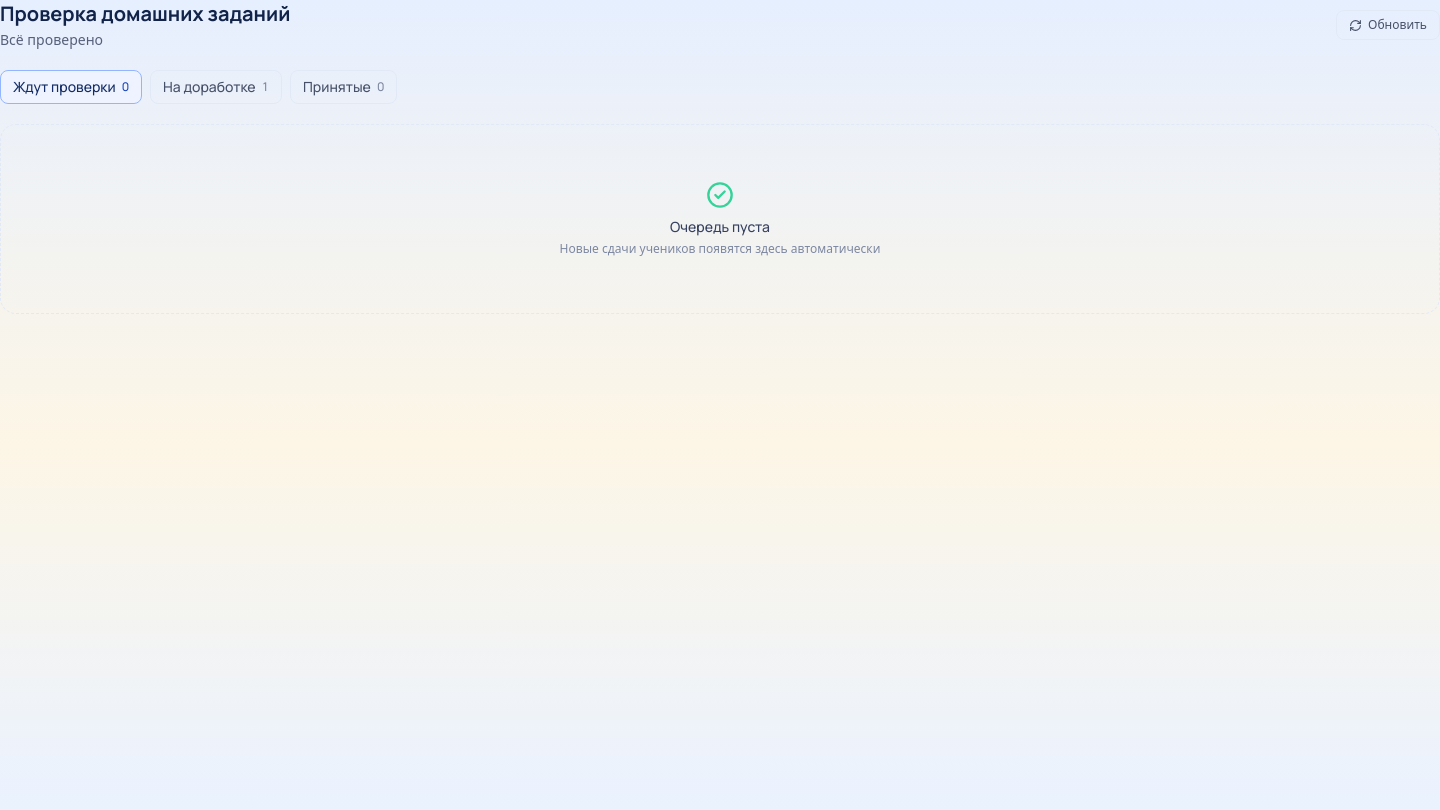
Scenario: HomeworkReviewQueuePage — принять работу с доработки › работа с доработки открывается из очереди и несёт блок вердикта
Click the tab with test id "queue-tab-returned_for_revision" at (216, 87), box left=150, top=70, right=282, bottom=104
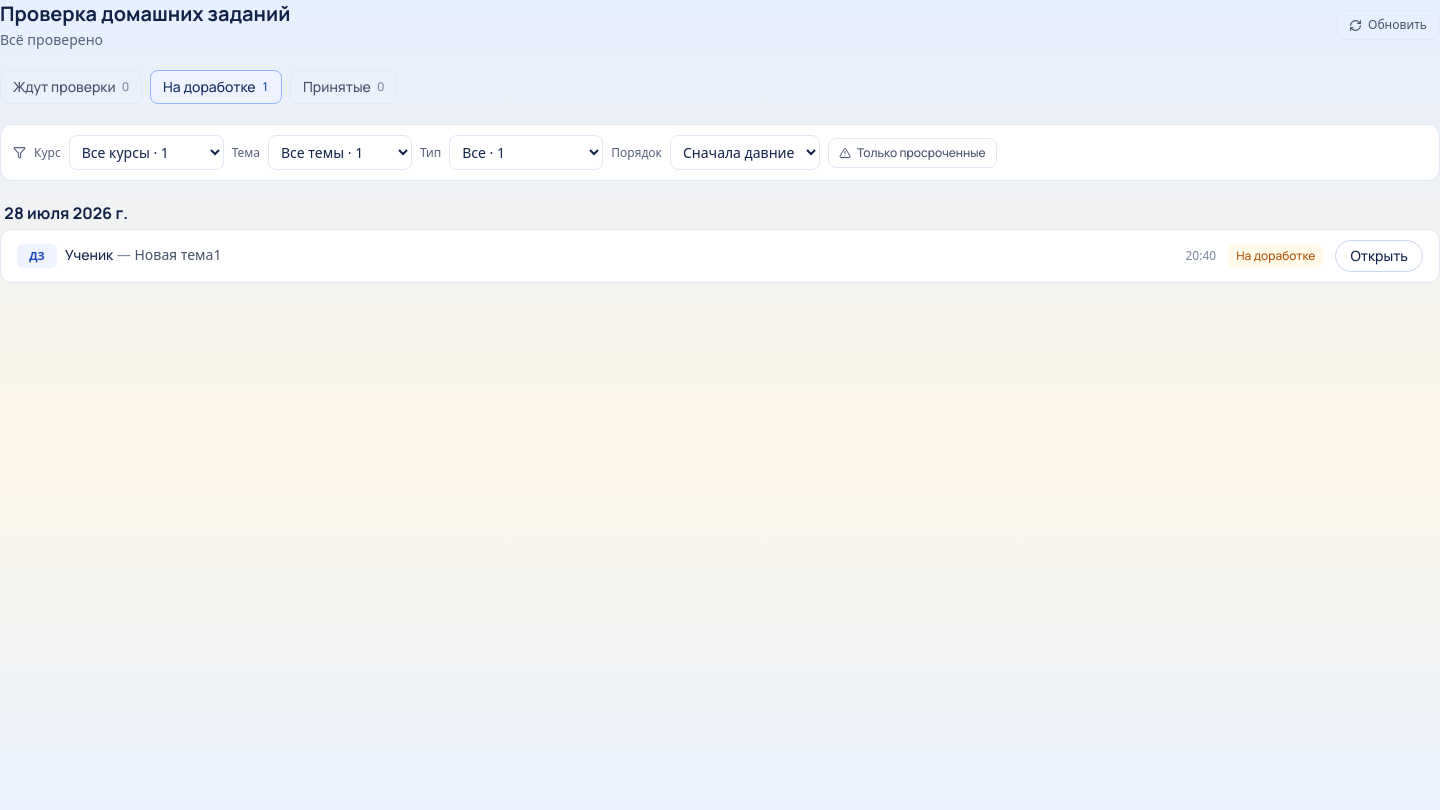
Click the button "Открыть" at (1379, 256), box left=1335, top=240, right=1423, bottom=272
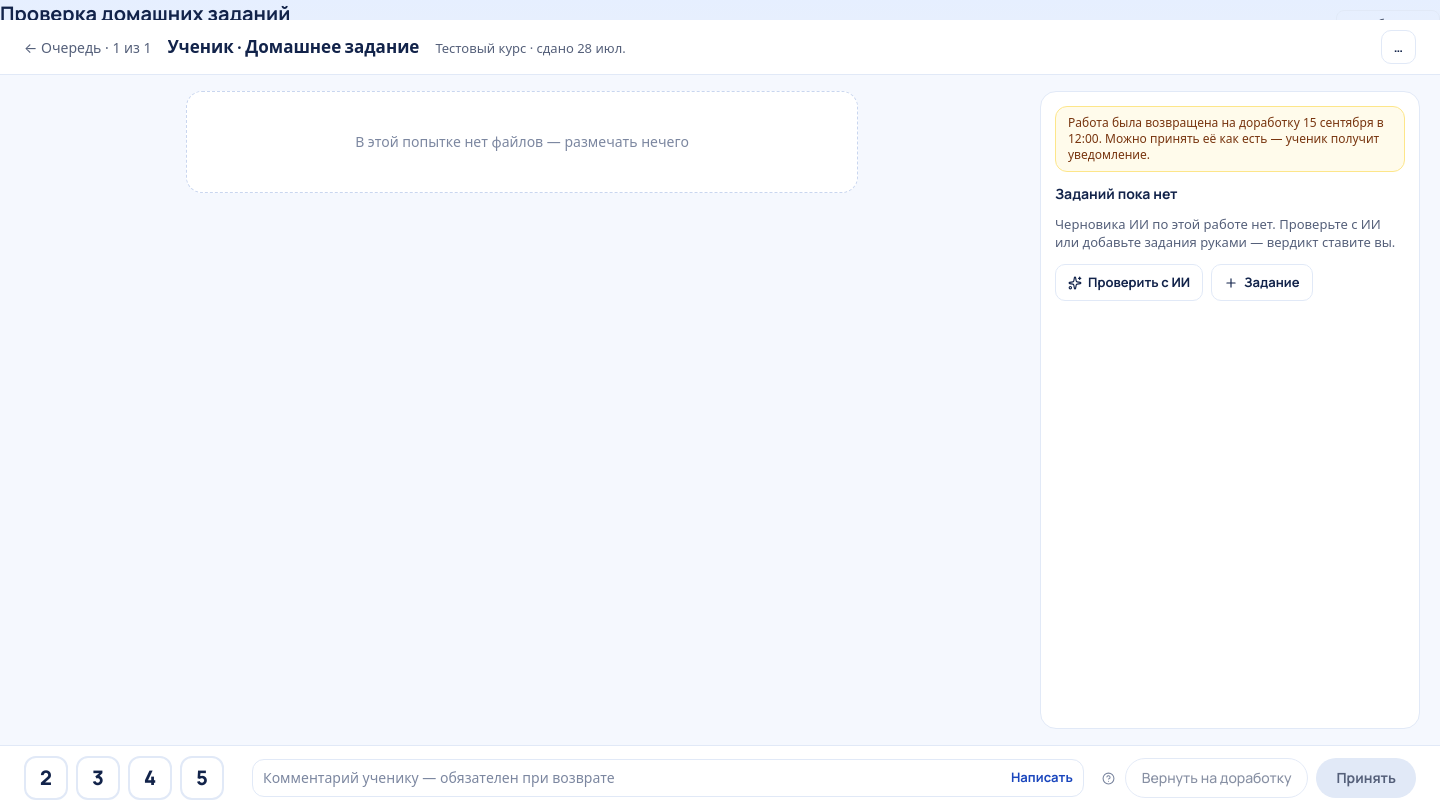
Click the button with test id "review-comment-edit" at (1042, 778), box left=1011, top=768, right=1073, bottom=788
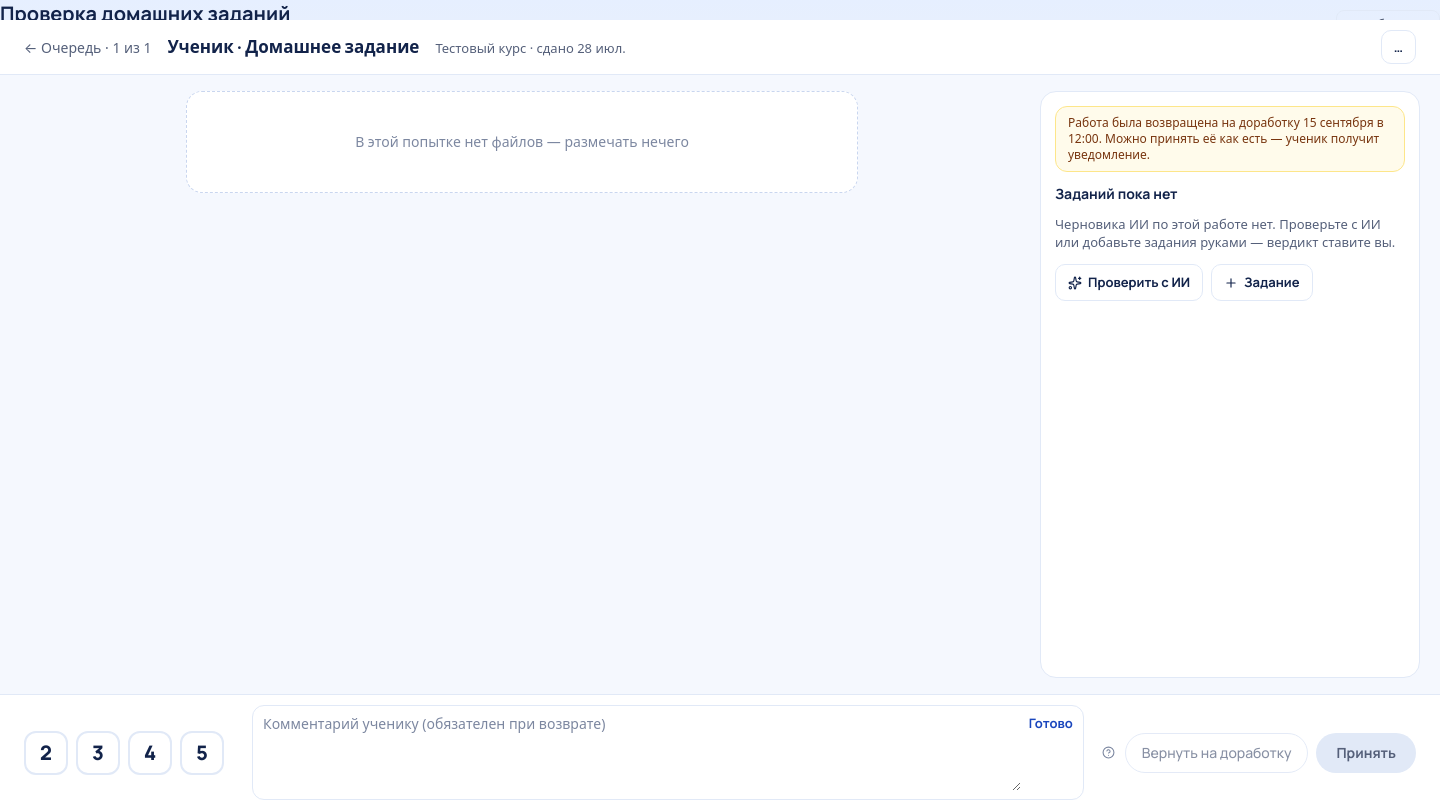
Expected: the button with test id "review-accept-button" is disabled, left=1316, top=732, right=1416, bottom=772
Expected: the text box with test id "review-comment-input" is enabled, left=263, top=714, right=1021, bottom=791
Click the button with test id "review-grade-5" at (202, 752), box left=180, top=730, right=224, bottom=774
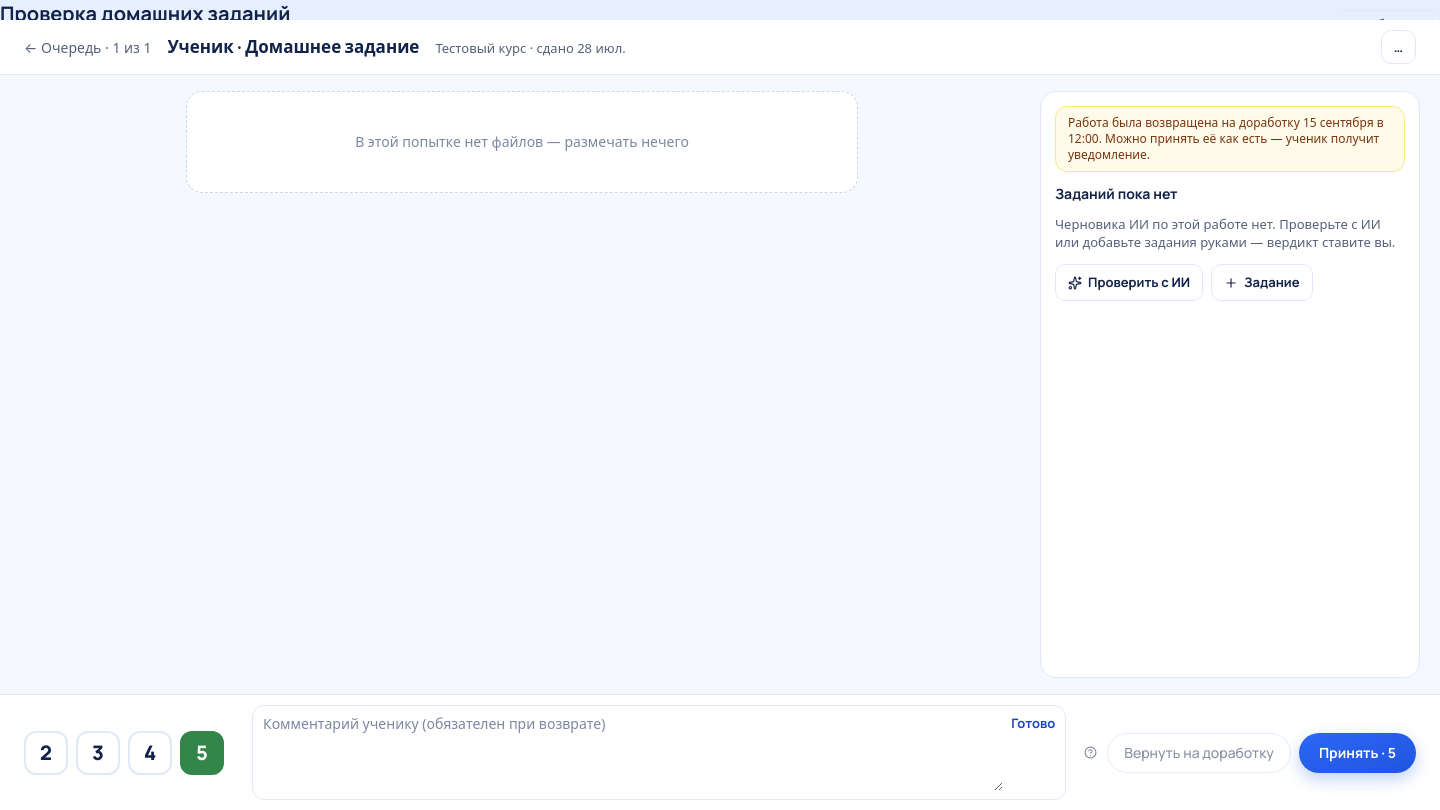
Expected: the button with test id "review-accept-button" is enabled, left=1299, top=732, right=1416, bottom=772
